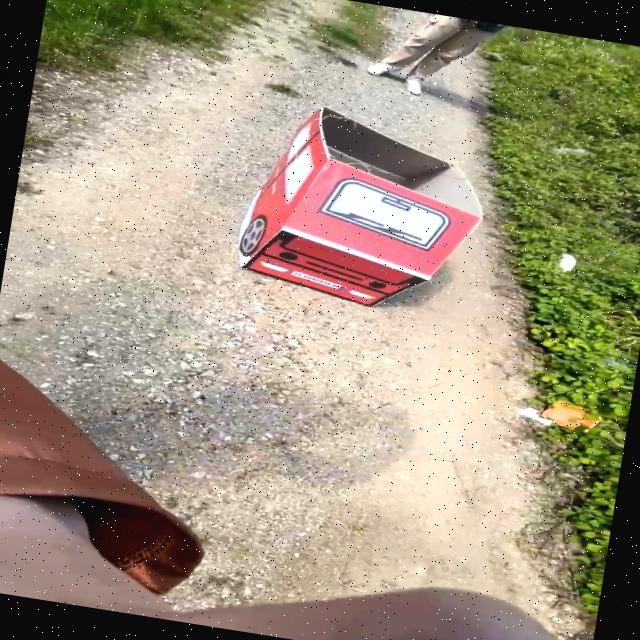red_car: (181, 84, 510, 338)
